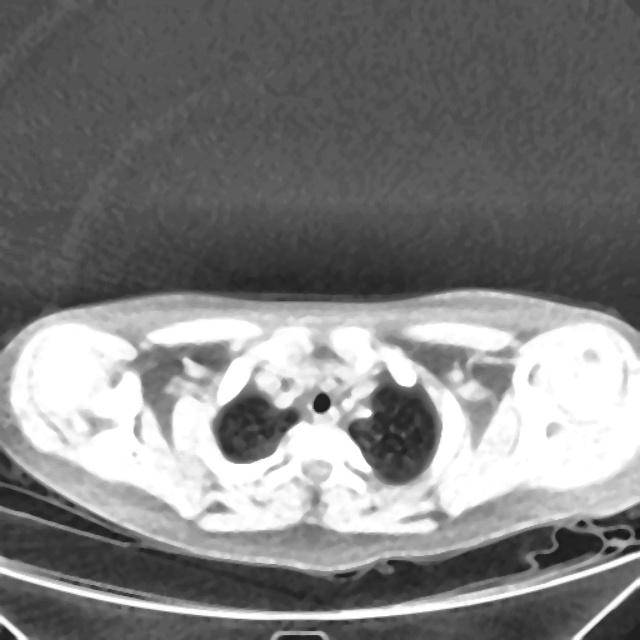covid: (0, 286, 639, 576)
